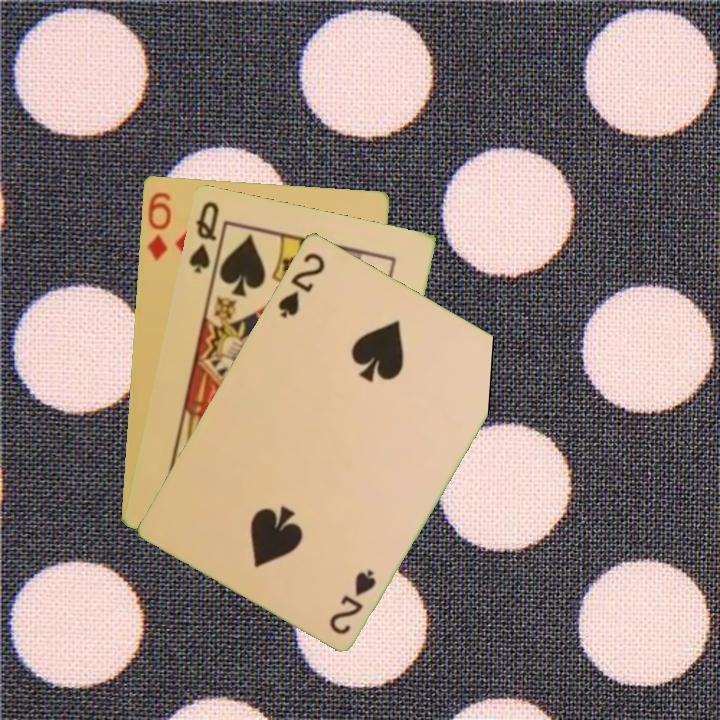2s: (274, 248, 328, 321), (325, 565, 379, 637)
6d: (144, 188, 174, 264)
Qs: (185, 197, 222, 276)
